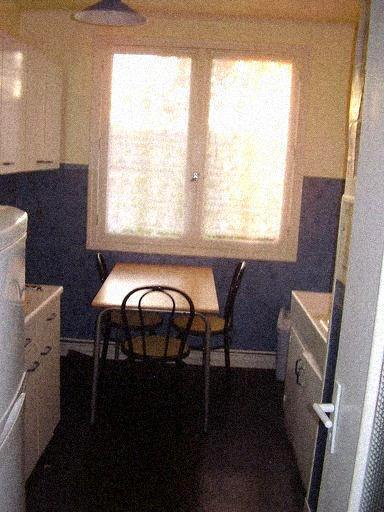Bote de Basura: (273, 309, 292, 383)
Electrodomestico: (4, 220, 25, 511)
